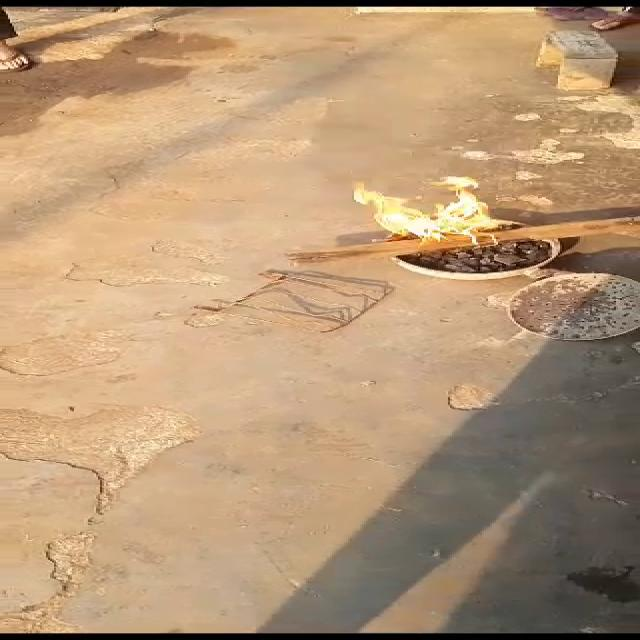Fire: (343, 174, 529, 248)
